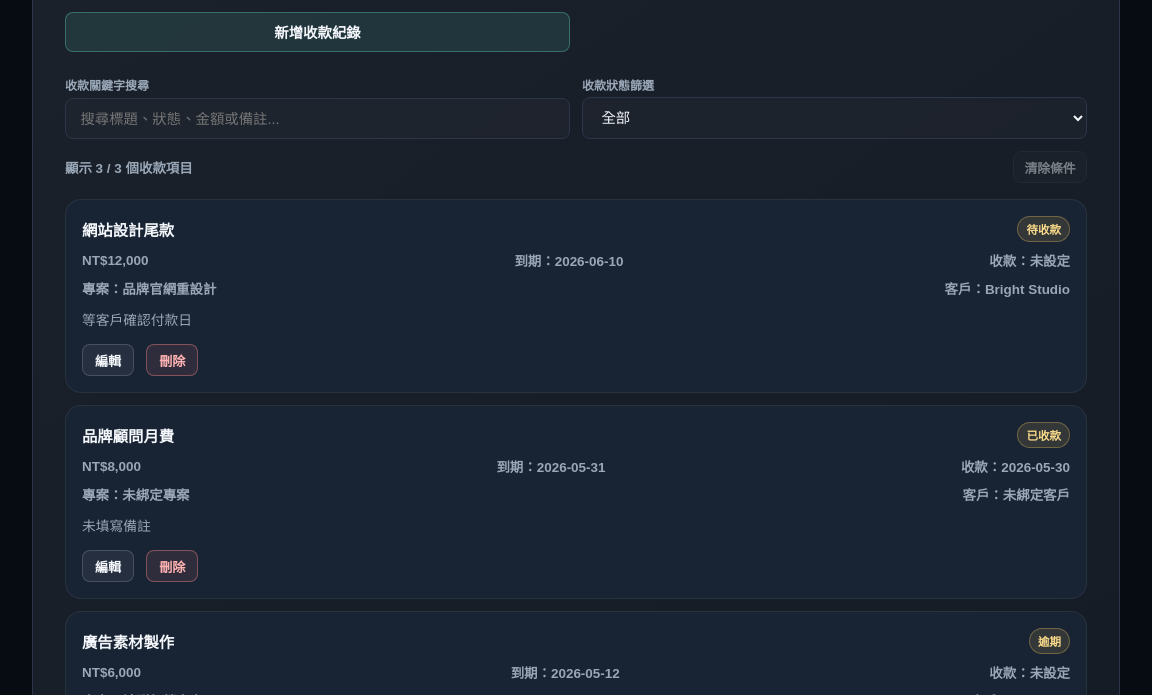
Test: InvoicesPage income records read/create › renders project/client selectors with names in create and edit forms
(page scrolled)
Expected: the number of elements with test id "invoices-status-badge" is 3, [1018,216,1070,242]; [1018,422,1070,448]; [1029,628,1070,654]
Click the button with test id "invoices-edit-button" below "等客戶確認付款日".
click(108, 360)  # box [82,344,134,376]
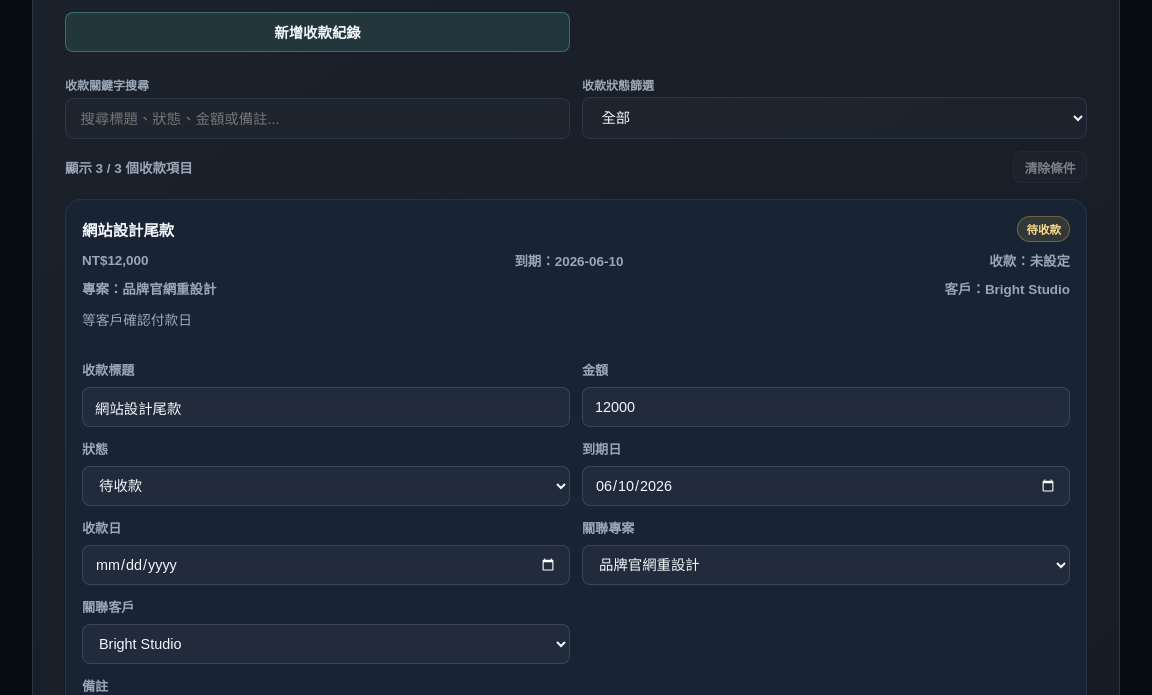
Expected: the dropdown with id "invoices-edit-project-id-ir-1" shows "品牌官網重設計", [582,545,1070,585]
Expected: the dropdown with id "invoices-edit-client-id-ir-1" shows "Bright Studio", [82,624,570,664]
